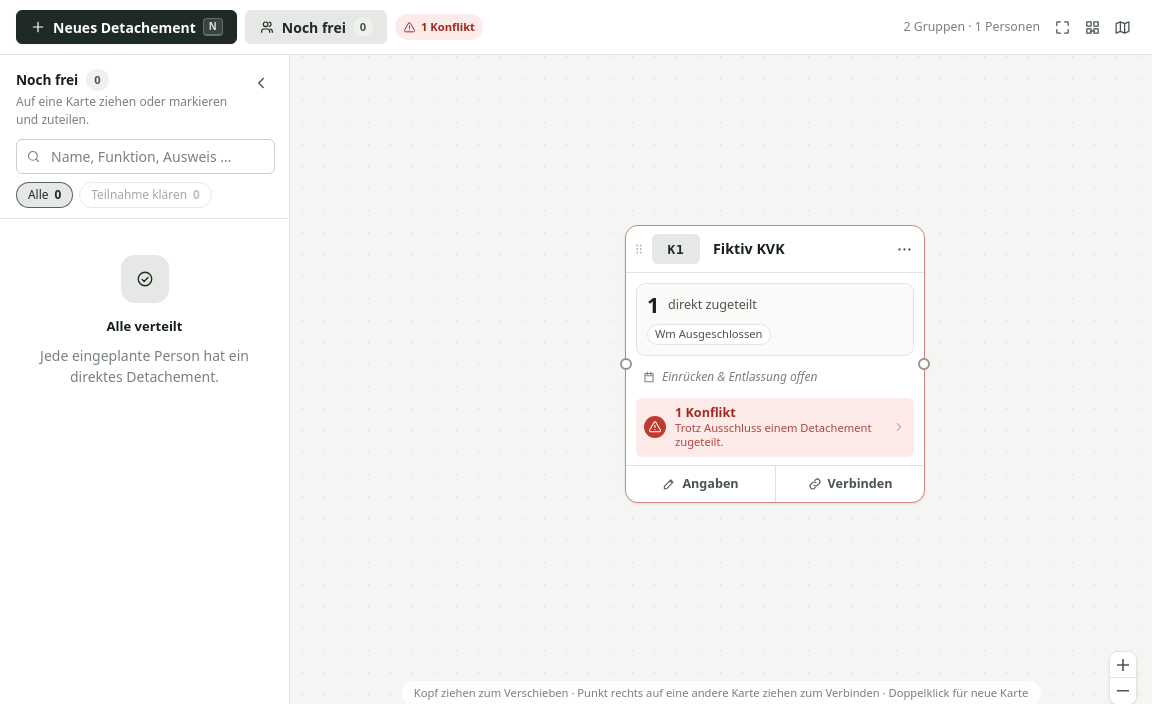
Test: interactive planning board with wholly fictional projects › shows assignment conflicts on the affected card before opening PISA
The image size is (1164, 704).
Click the button "1 Konflikt Trotz Ausschluss einem Detachement zugeteilt.". click: (775, 427)
box: [636,398,914,457]
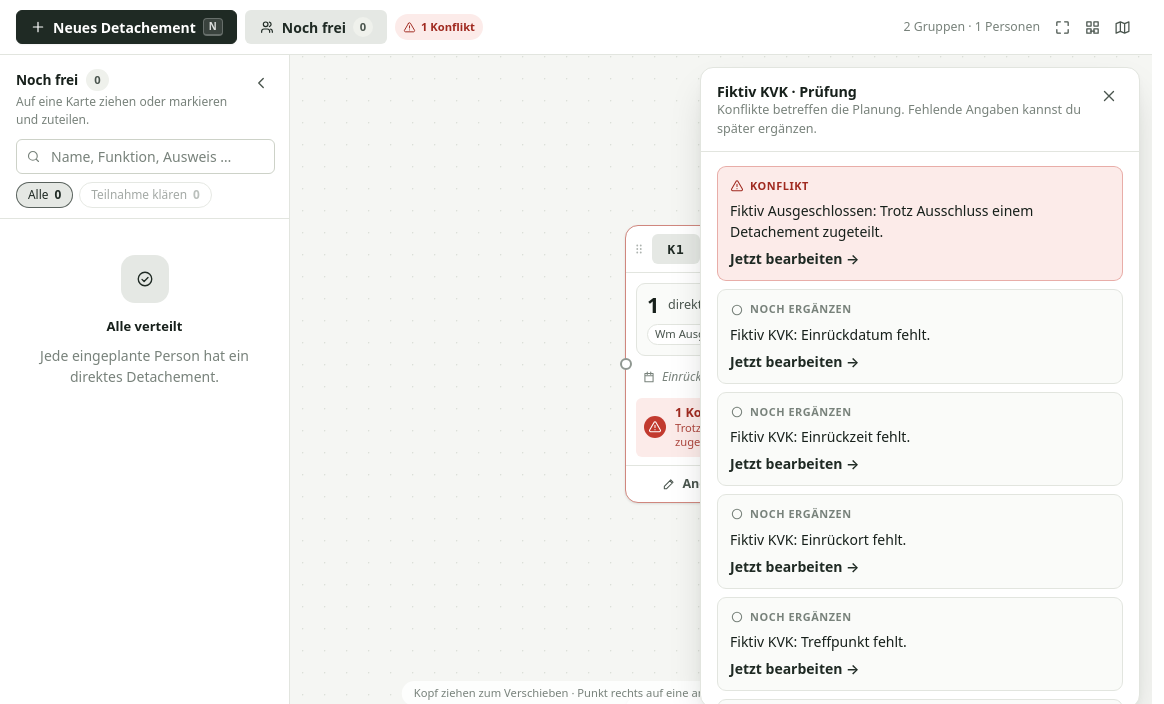
Check: the text "Fiktiv Ausgeschlossen:" is shown, box [730,201,880,220]
Check: the button "Jetzt bearbeiten →" below "Fiktiv Ausgeschlossen:" is shown, box [730,248,859,269]
